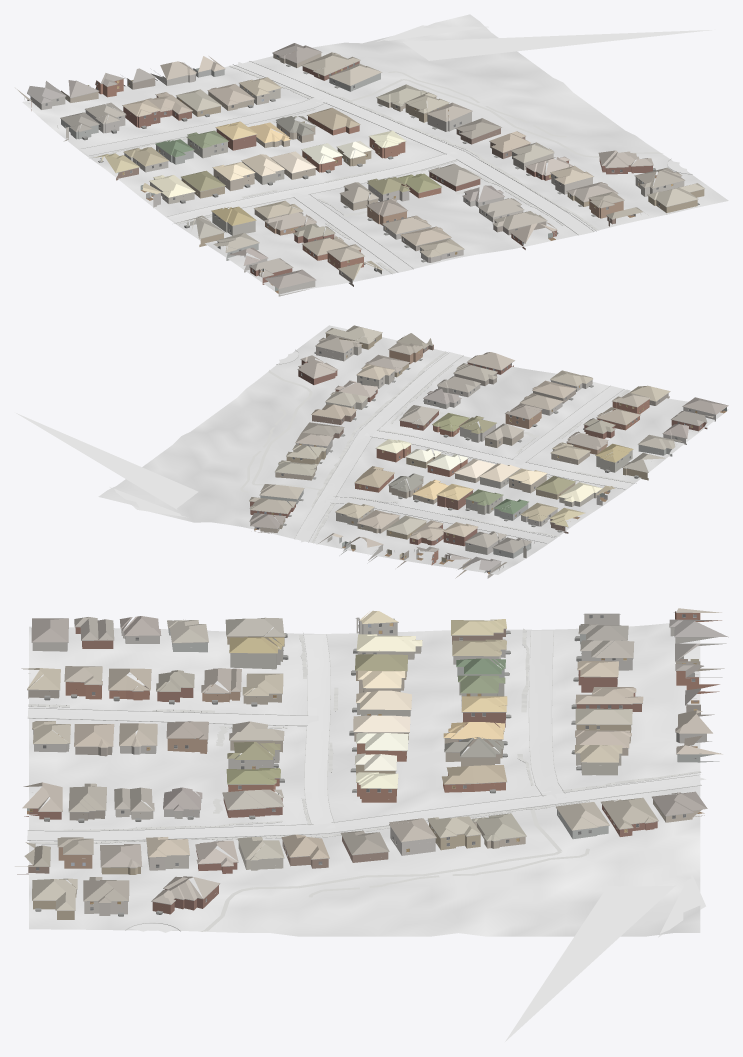
The picture shows the model from 3 angles, top to bottom: view 1: azimuth 30°, elevation 25°; view 2: azimuth 150°, elevation 25°; view 3: azimuth 270°, elevation 25°; orthographic projection. The views are drawn at different scales.
Visible parts, largest first — view 1: ground, roof, concrete, wall, wall_stucco, detail, water, walk, wall_stone, curb, glass; view 2: ground, roof, concrete, wall, wall_stucco, detail, water, walk, wall_stone, curb, room, glass; view 3: ground, roof, concrete, wall, water, wall_stucco, walk, detail, wall_stone, curb, glass.
Boxes of the visible parts, x1,y1,x2,y2 form: ground: [22, 14, 728, 295]; roof: [15, 43, 704, 288]; concrete: [81, 61, 687, 272]; wall: [31, 61, 704, 286]; wall_stucco: [61, 53, 684, 260]; detail: [24, 52, 704, 289]; water: [377, 25, 711, 60]; walk: [89, 65, 662, 273]; wall_stone: [27, 73, 503, 296]; curb: [80, 61, 692, 273]; glass: [45, 55, 665, 277]; ground: [98, 325, 728, 574]; roof: [249, 325, 728, 573]; concrete: [279, 352, 631, 543]; wall: [250, 333, 707, 578]; wall_stucco: [250, 343, 672, 558]; detail: [249, 332, 715, 572]; water: [16, 413, 198, 517]; walk: [240, 351, 633, 542]; wall_stone: [296, 380, 715, 578]; curb: [276, 349, 636, 543]; room: [254, 338, 726, 574]; glass: [257, 339, 701, 562]; ground: [29, 622, 700, 936]; roof: [15, 608, 728, 910]; concrete: [27, 631, 705, 932]; wall: [17, 611, 724, 919]; water: [505, 873, 705, 1041]; wall_stucco: [84, 613, 720, 915]; walk: [28, 628, 700, 931]; detail: [27, 612, 722, 916]; wall_stone: [32, 617, 726, 855]; curb: [27, 631, 701, 931]; glass: [36, 614, 696, 910].
Bounding box in the file's own units: 349 × 18.6 × 266.
